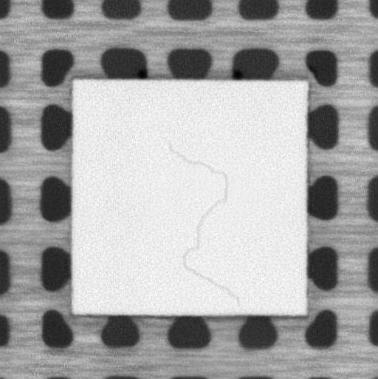DIE_CRACK: (164, 140, 242, 306)
